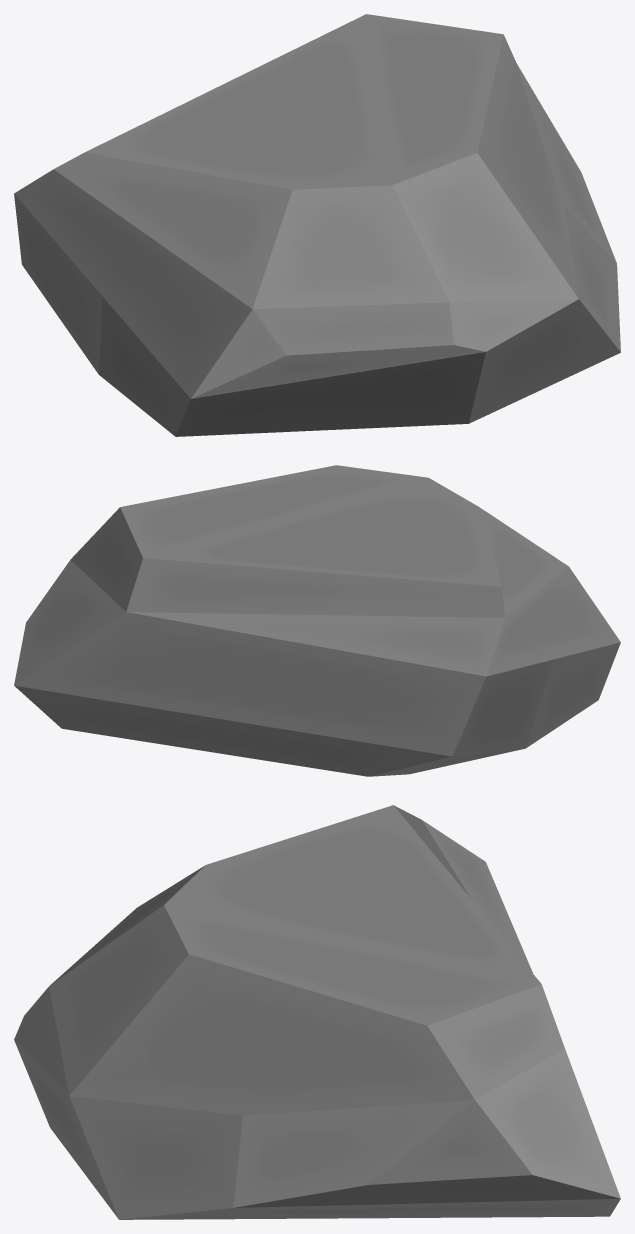
File: Flattenstone1.fbx
3 renders of one model, top to bottom at view 1: azimuth 30°, elevation 25°; view 2: azimuth 150°, elevation 25°; view 3: azimuth 270°, elevation 25°, orthographic. The views are drawn at different scales.
Visible parts, largest first — view 1: Plane001; view 2: Plane001; view 3: Plane001.
Part boxes in pixels (x1,y1,x2,y2): Plane001: (14,14,620,436); Plane001: (14,465,620,776); Plane001: (14,805,620,1219).
Size of the model in its own units: 16.82 by 6.36 by 16.31.
1 material, 1 textured.
